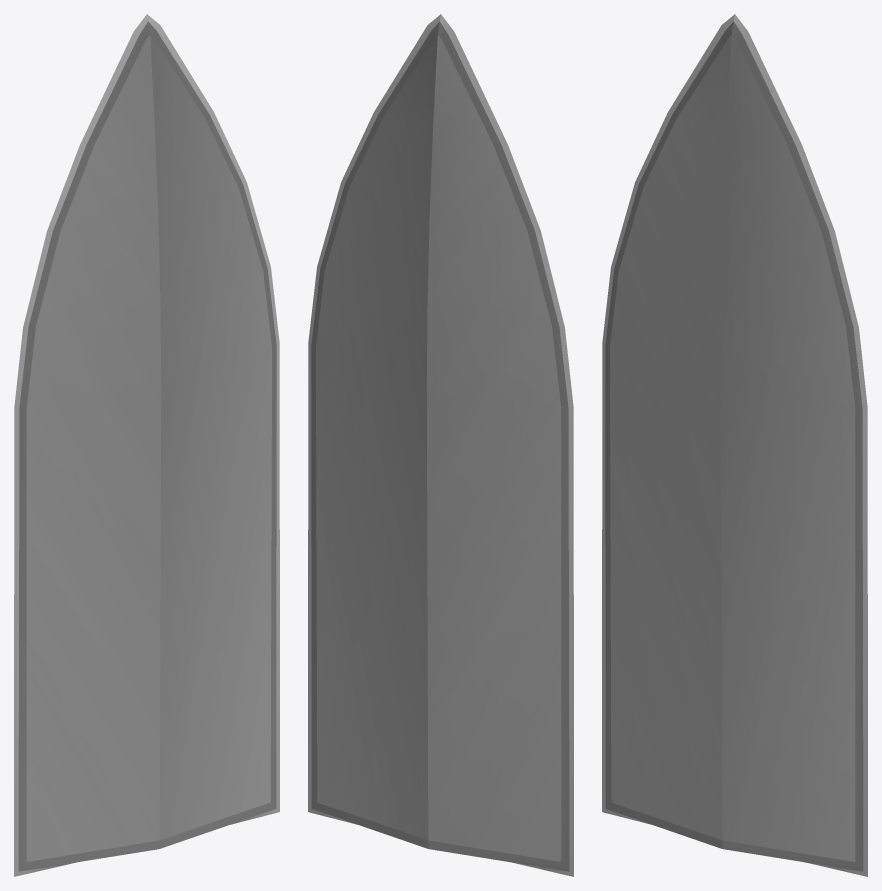
The model's file is stone_blade (15).glb.
The picture shows the model from 3 angles, left to right: view 1: azimuth 30°, elevation 25°; view 2: azimuth 150°, elevation 25°; view 3: azimuth 330°, elevation 25°; orthographic projection.
Visible parts, largest first — view 1: stone_blade_unscratched.035; view 2: stone_blade_unscratched.035; view 3: stone_blade_unscratched.035.
Boxes of the visible parts, bbox=[...] form: stone_blade_unscratched.035: bbox=[14, 14, 279, 876]; stone_blade_unscratched.035: bbox=[308, 14, 573, 876]; stone_blade_unscratched.035: bbox=[602, 14, 867, 876].
Size of the model in its own units: 3.82 by 11.43 by 0.706.
Materials: 1 (1 with a texture image).
